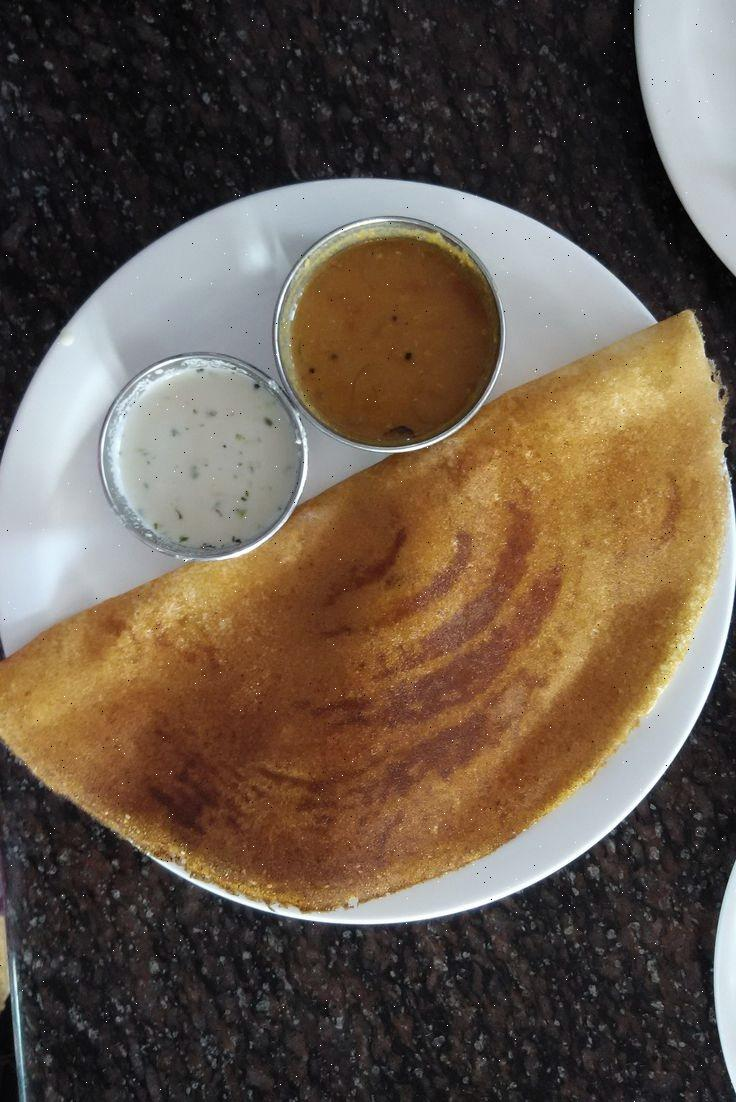dosa: (8, 436, 736, 919)
